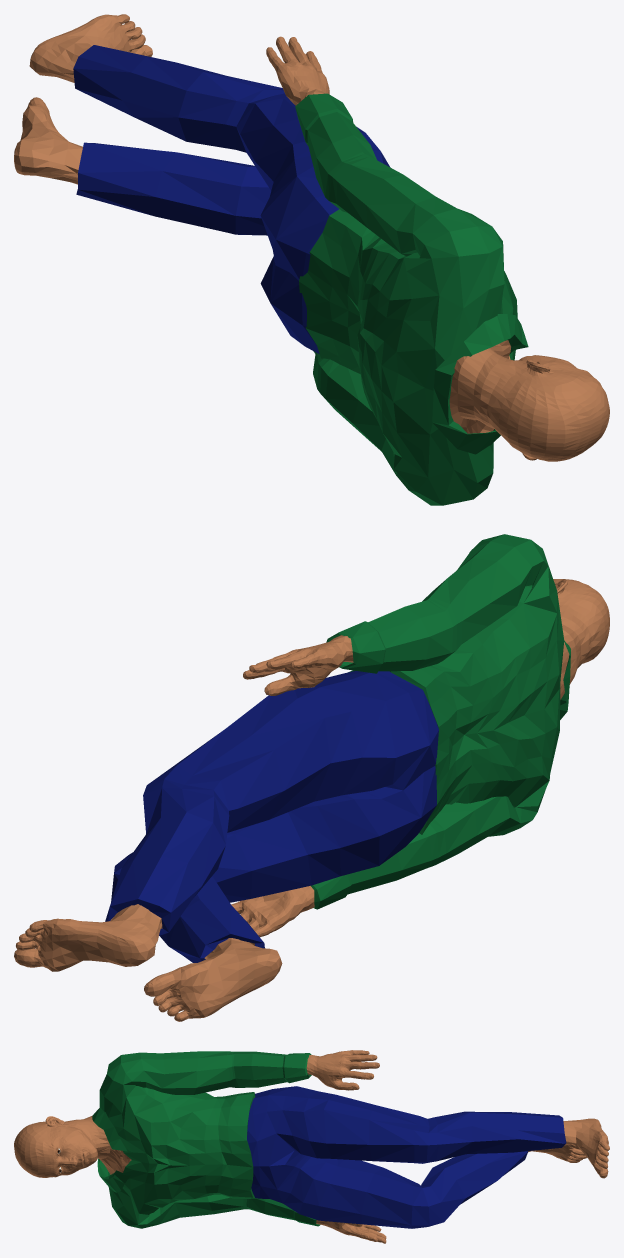
Rendered from p1_human_baked.obj.
3 views of the same model, one above another, from view 1: azimuth 30°, elevation 25°; view 2: azimuth 150°, elevation 25°; view 3: azimuth 270°, elevation 25° (orthographic). The views are drawn at different scales.
Bounding box in the file's own units: 0.4827 × 0.5598 × 1.69.
